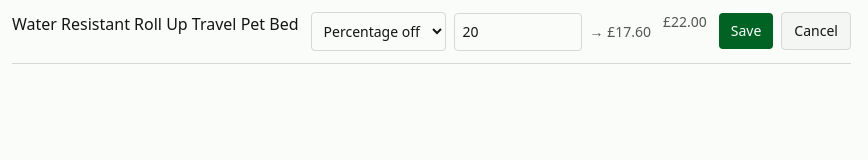
it: ItemRow — editing › blocks a percentage over 100
The width and height of the screenshot is (868, 160).
Replace the text in the number field named "Percent off for" with "120" at (518, 32), box [454,12,582,50]
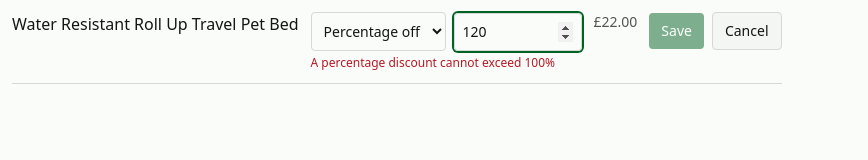
Result: the button "Save" is disabled at [649,13,704,49]
Result: the message reads "A percentage discount cannot exceed 100%" at [311,54,555,71]
